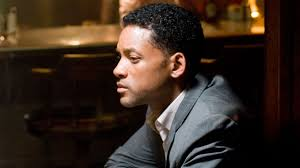black_male: (91, 31, 183, 104)
